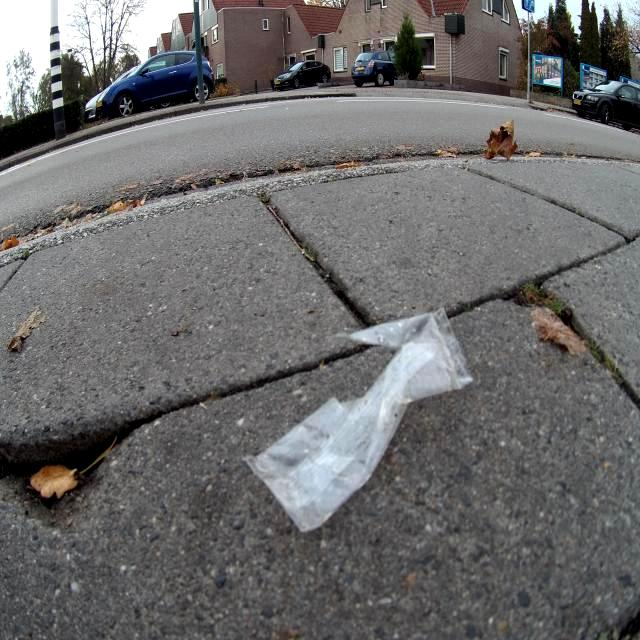Plastic: (240, 304, 476, 534)
